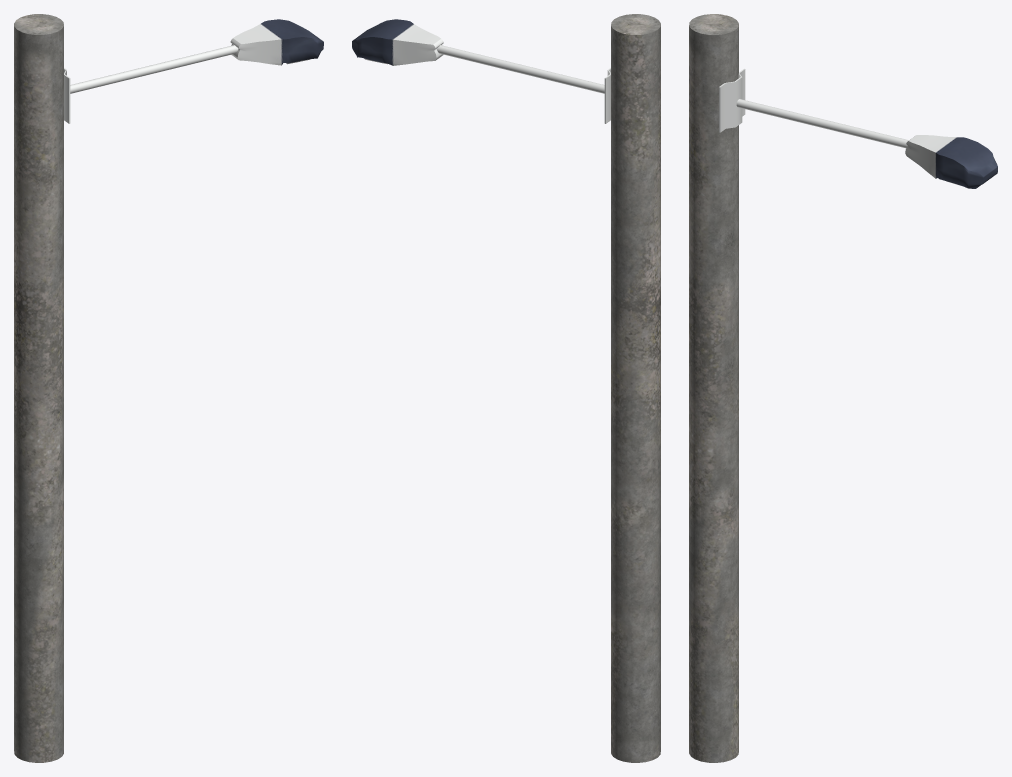
The model's file is lamp_post.glb.
The picture shows the model from 3 angles, left to right: view 1: azimuth 30°, elevation 25°; view 2: azimuth 150°, elevation 25°; view 3: azimuth 330°, elevation 25°; orthographic projection.
Visible parts, largest first — view 1: pCylinder1, pCube2, pCylinder2; view 2: pCylinder1, pCube2, pCylinder2; view 3: pCylinder1, pCube2, pCylinder2, pCube1.
Part boxes in pixels (x1=…): pCylinder1: x1=14, y1=14, x2=63, y2=762; pCube2: x1=230, y1=19, x2=323, y2=65; pCylinder2: x1=70, y1=45, x2=238, y2=93; pCylinder1: x1=611, y1=14, x2=660, y2=762; pCube2: x1=352, y1=19, x2=443, y2=65; pCylinder2: x1=436, y1=45, x2=604, y2=93; pCylinder1: x1=689, y1=14, x2=738, y2=762; pCube2: x1=905, y1=135, x2=997, y2=188; pCylinder2: x1=736, y1=99, x2=908, y2=148; pCube1: x1=719, y1=68, x2=745, y2=132.
Bounding box in the file's own units: 687 × 1600 × 100.
Materials: 1 (1 with a texture image).
